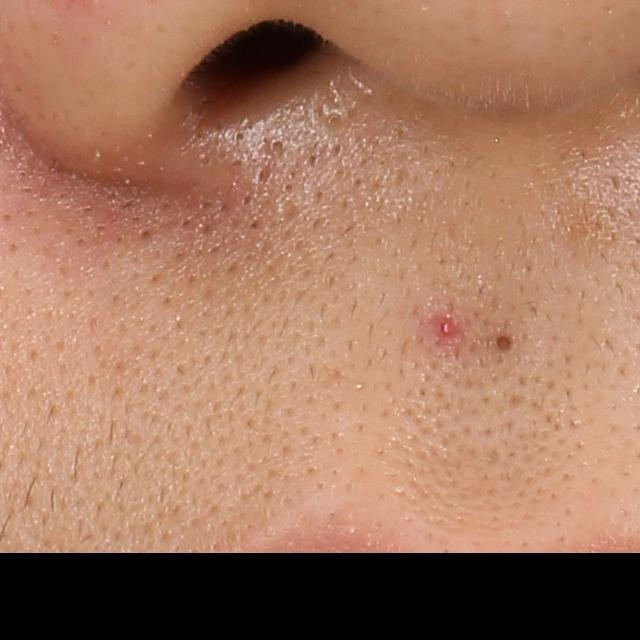comedo: (492, 331, 517, 356), (264, 131, 288, 156), (323, 111, 346, 131), (305, 150, 323, 172)
papule: (432, 315, 459, 343)
